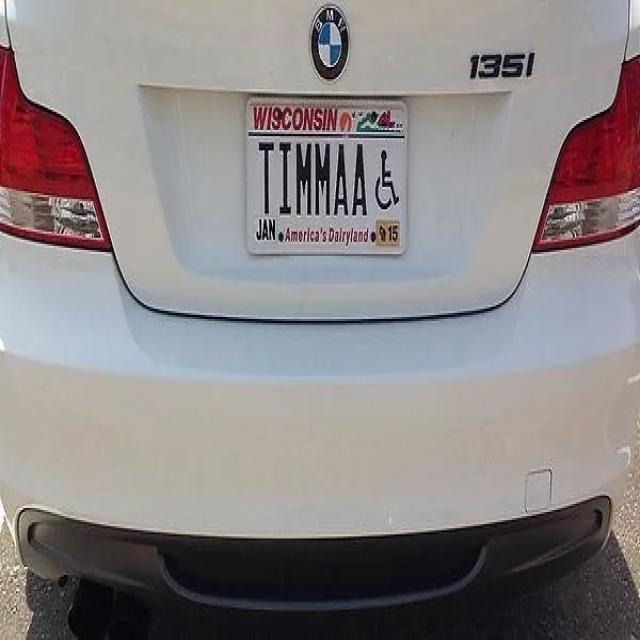symbol_of_access: (372, 144, 400, 216)
